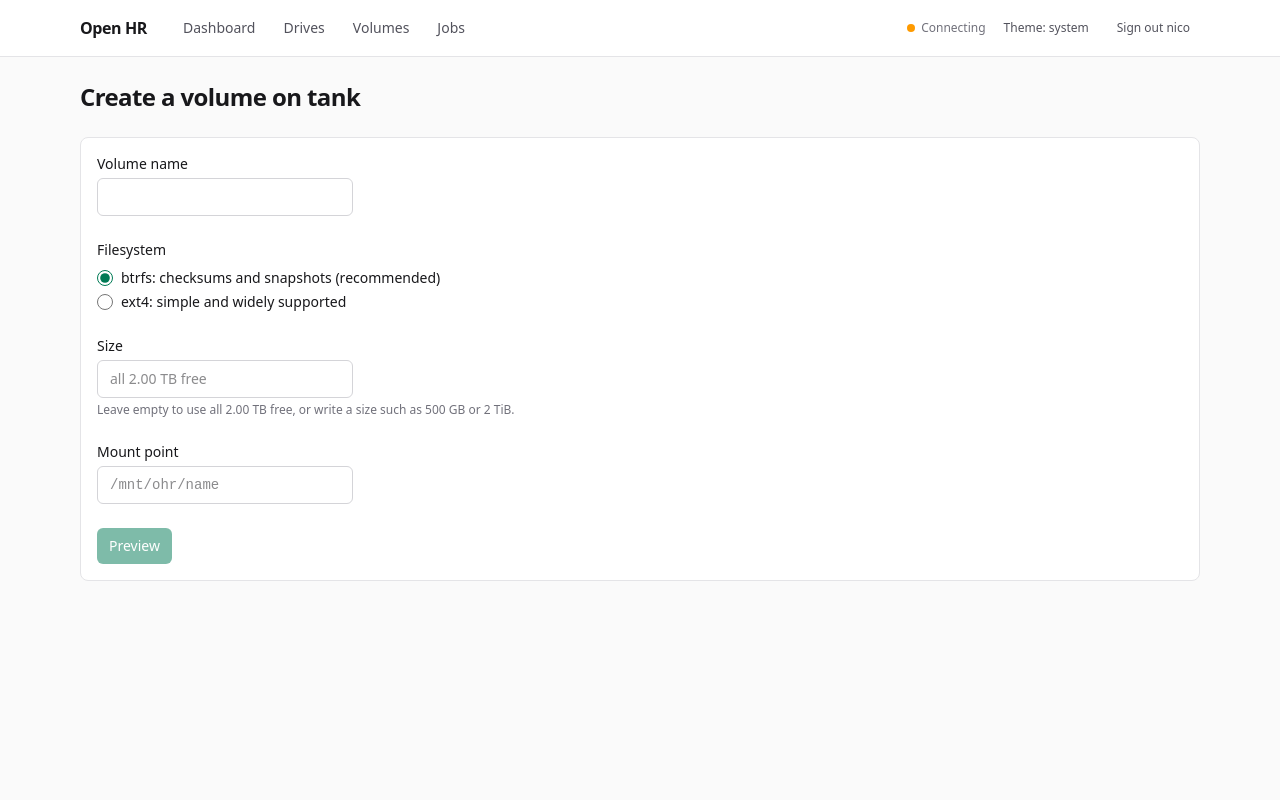
Test case: create volume › says what is wrong with a size it cannot read, without asking core
Type "photos" into the field labelled "Volume name".
click(225, 197); type("photos")  # box [97,178,353,216]
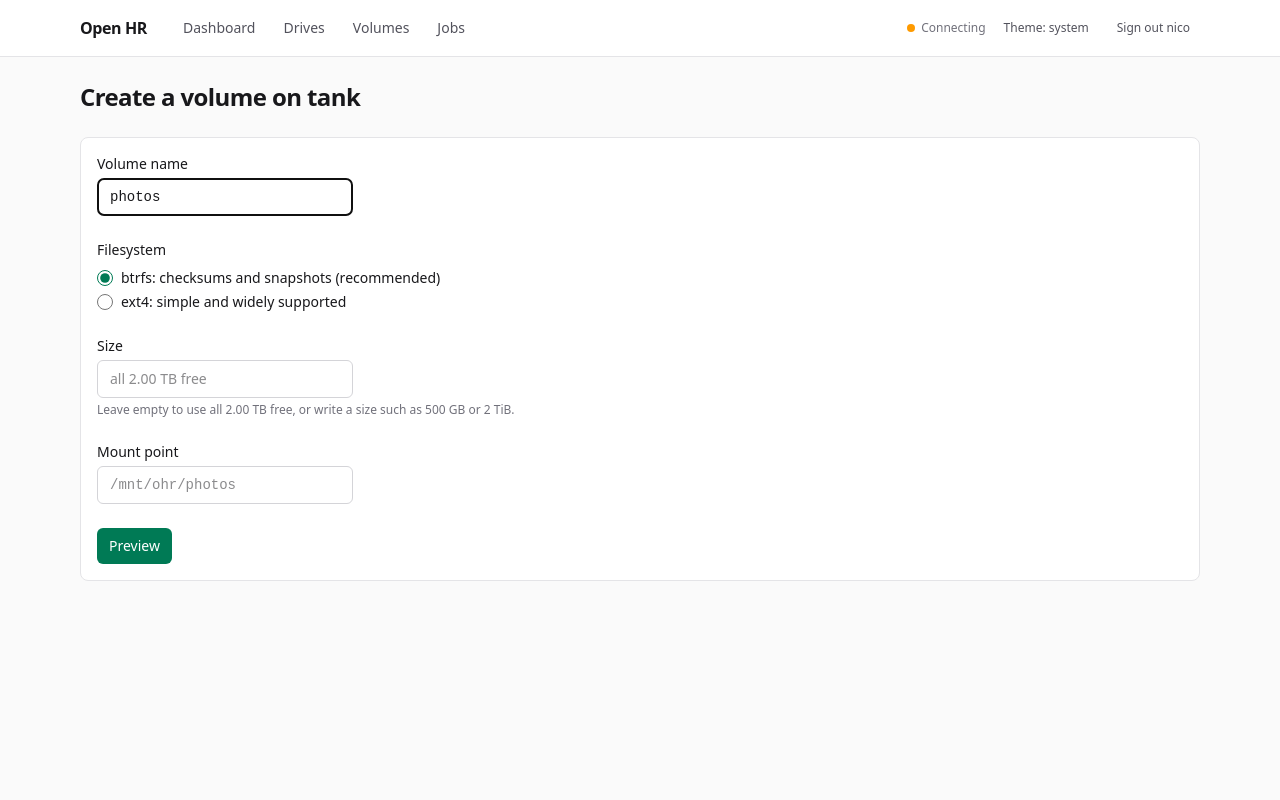
Type "lots" into the field labelled "Size".
click(225, 379); type("lots")  # box [97,360,353,398]
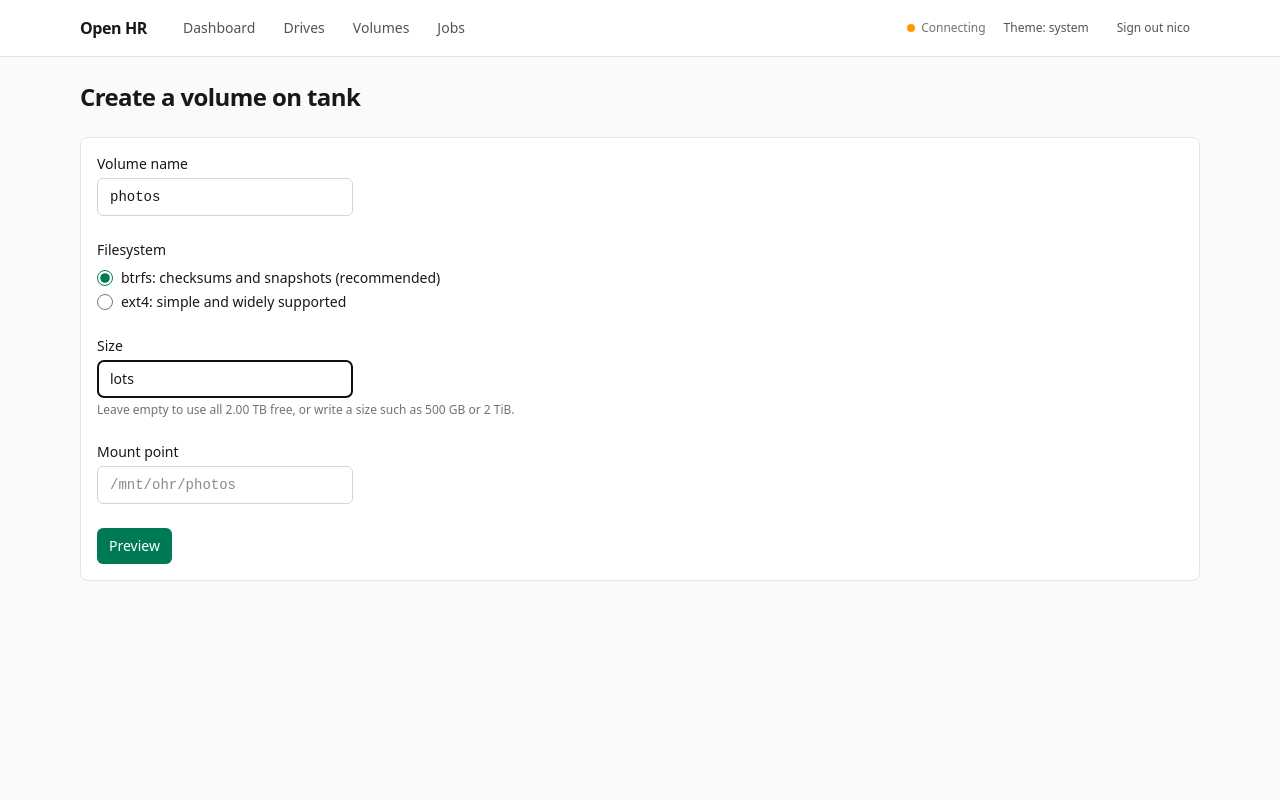
Click the button "Preview".
click(134, 546)  # box [97,528,172,564]
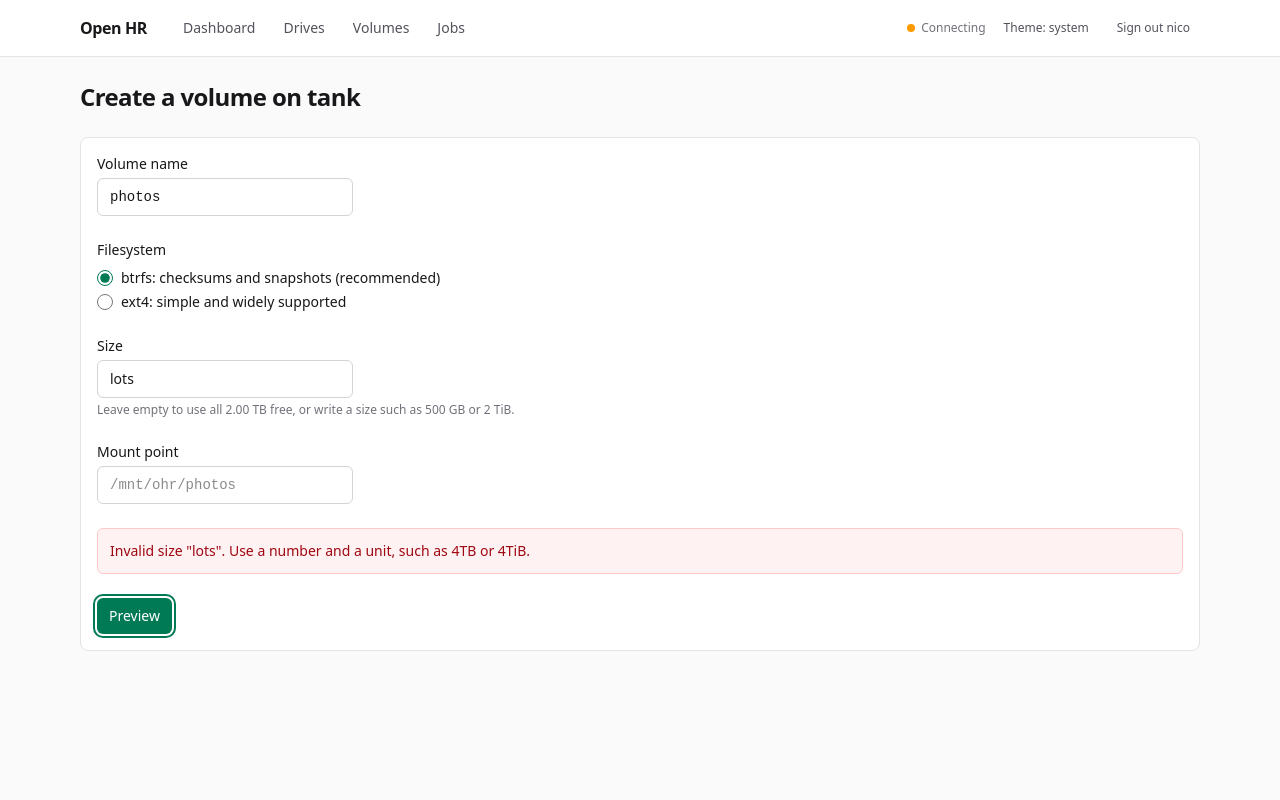
Expected: the message "Invalid size \"lots\". Use a number and a unit, such as 4TB or 4TiB." is shown, [97,528,1183,574]
